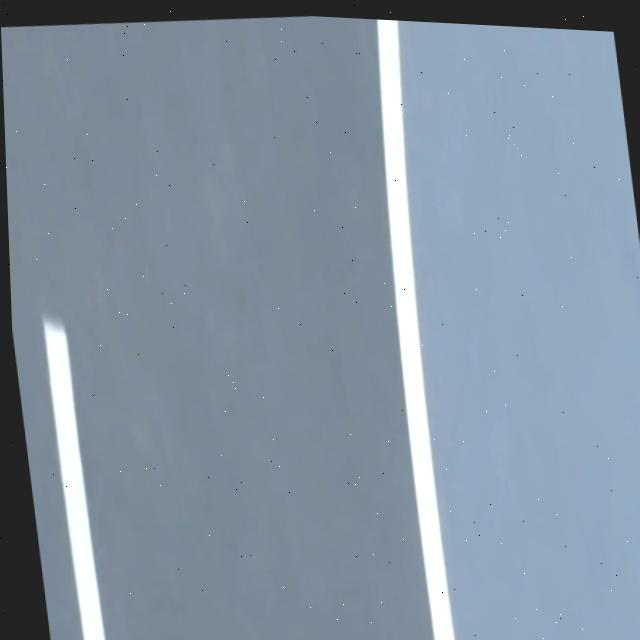center: (44, 318, 106, 640)
left: (377, 20, 455, 640)
